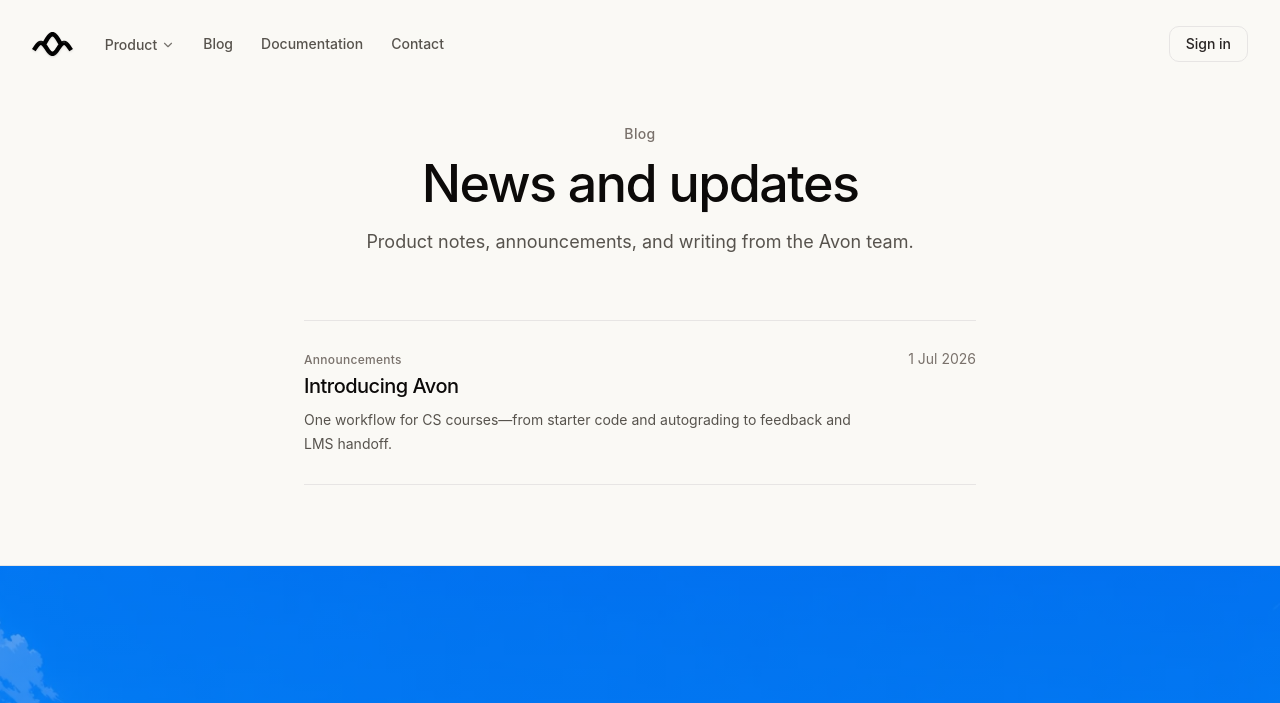
Test: App › renders the blog index and a markdown post
Expected: the heading "News and updates" is shown, [422,152,858,215]
Expected: the heading "Introducing Avon" is shown, [304,374,458,398]
Click the link "Introducing Avon".
click(353, 360)  # box [304,321,976,484]
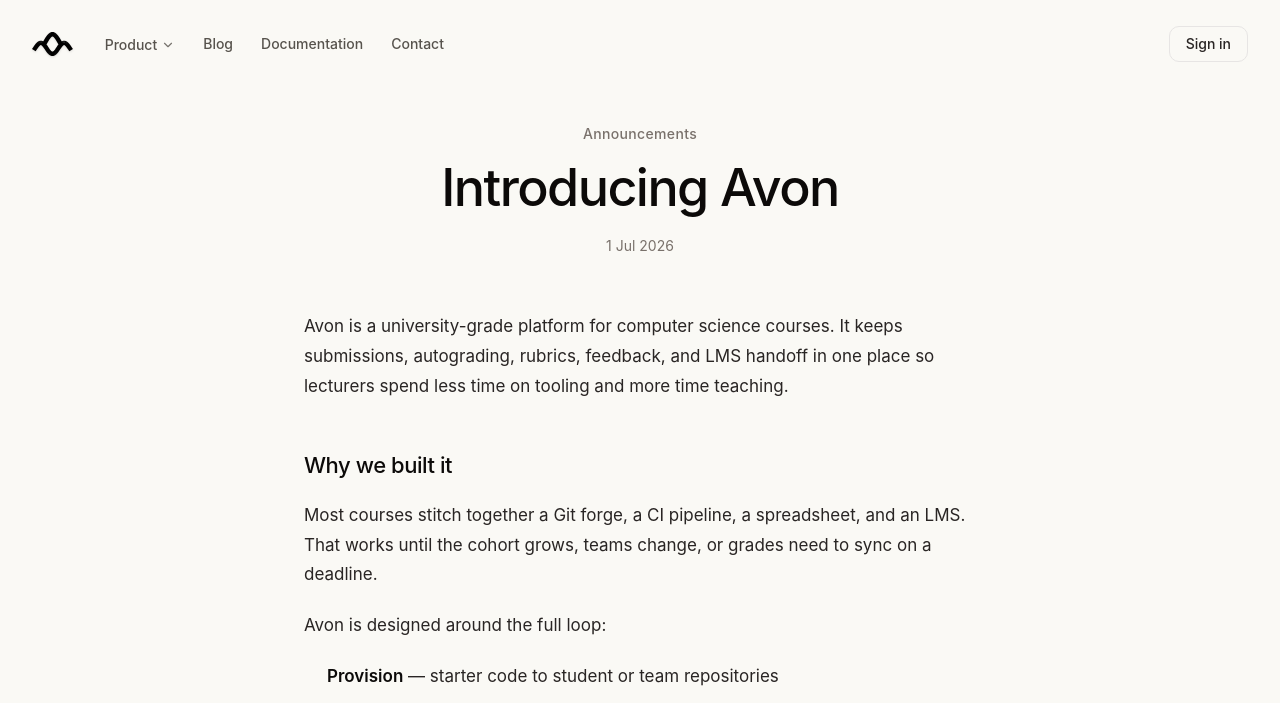
Now the heading "Why we built it" is shown, box [304,452,452,478]
Now the text "university-grade platform" is shown, box [304,316,934,396]
